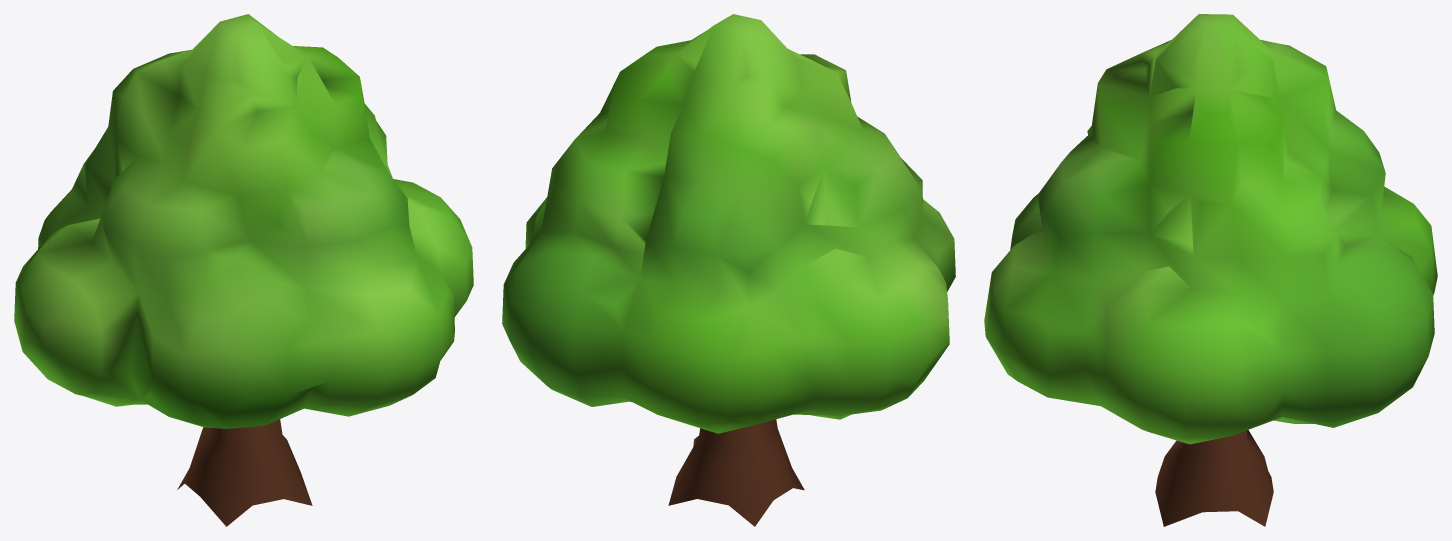
The model's file is pine-tree-118-lod2.obj.
3 views of the same model, side by side, from view 1: azimuth 30°, elevation 25°; view 2: azimuth 150°, elevation 25°; view 3: azimuth 270°, elevation 25° (orthographic).
Visible parts, largest first — view 1: simplified; view 2: simplified; view 3: simplified.
Part boxes in pixels (left/top/right/bottom): simplified: left=14, top=14, right=473, bottom=526; simplified: left=502, top=14, right=955, bottom=526; simplified: left=984, top=14, right=1437, bottom=526.
Bounding box in the file's own units: 255 × 281 × 238.
